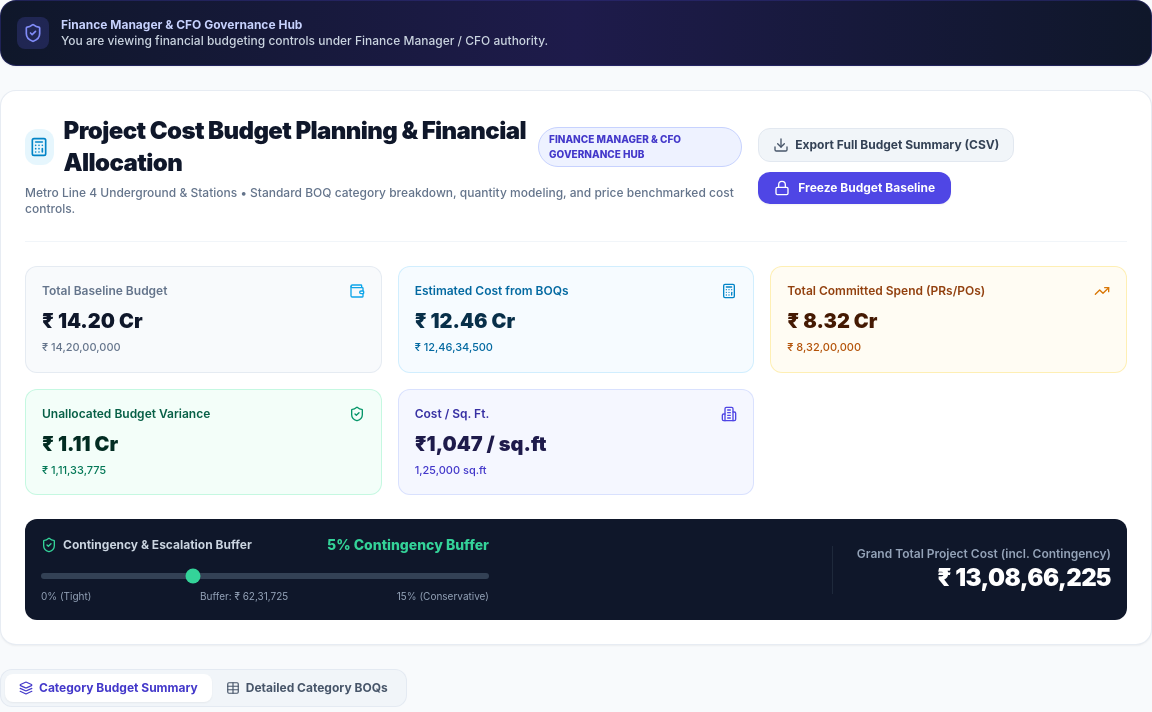
Test case: BudgetPlanningModule Component & Budget System › switches between Category Summary and Detailed BOQ view modes
The width and height of the screenshot is (1152, 712).
// Click 'Detailed Category BOQs' button in segmented control
Click the button "Detailed Category BOQs" at coordinates (307, 688), box [212, 674, 402, 702]
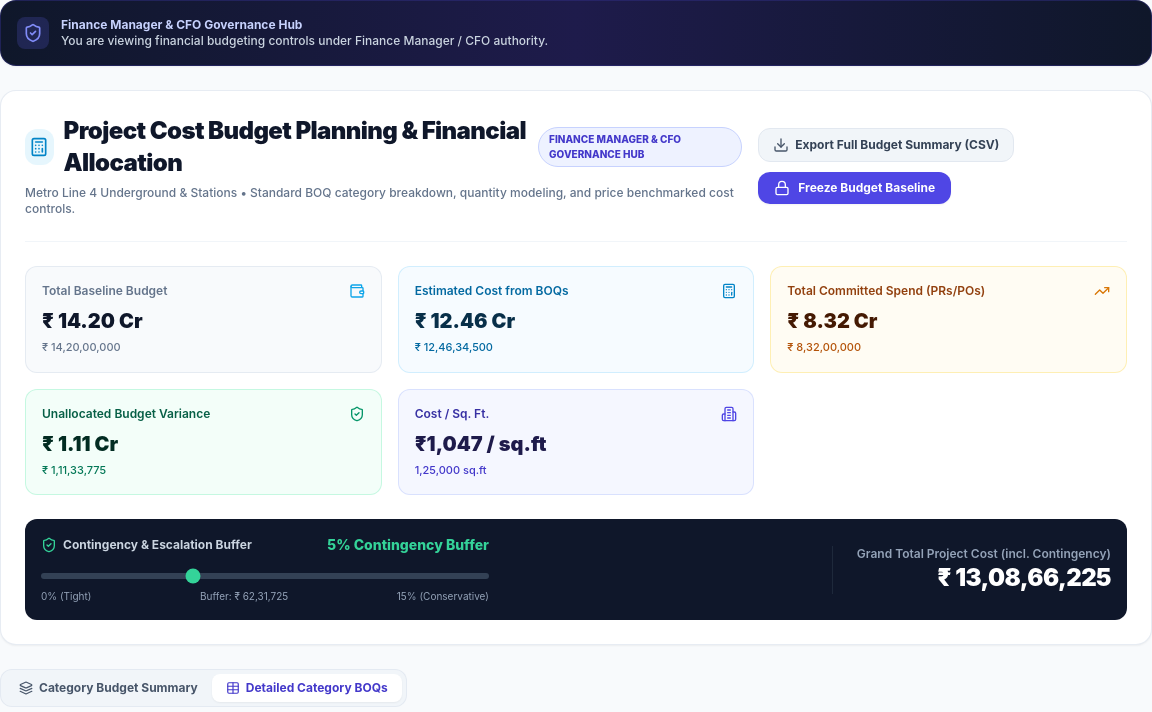
// Switch back to summary
Click the button "Category Budget Summary" at coordinates (108, 688), box [5, 674, 212, 702]
(page scrolled)
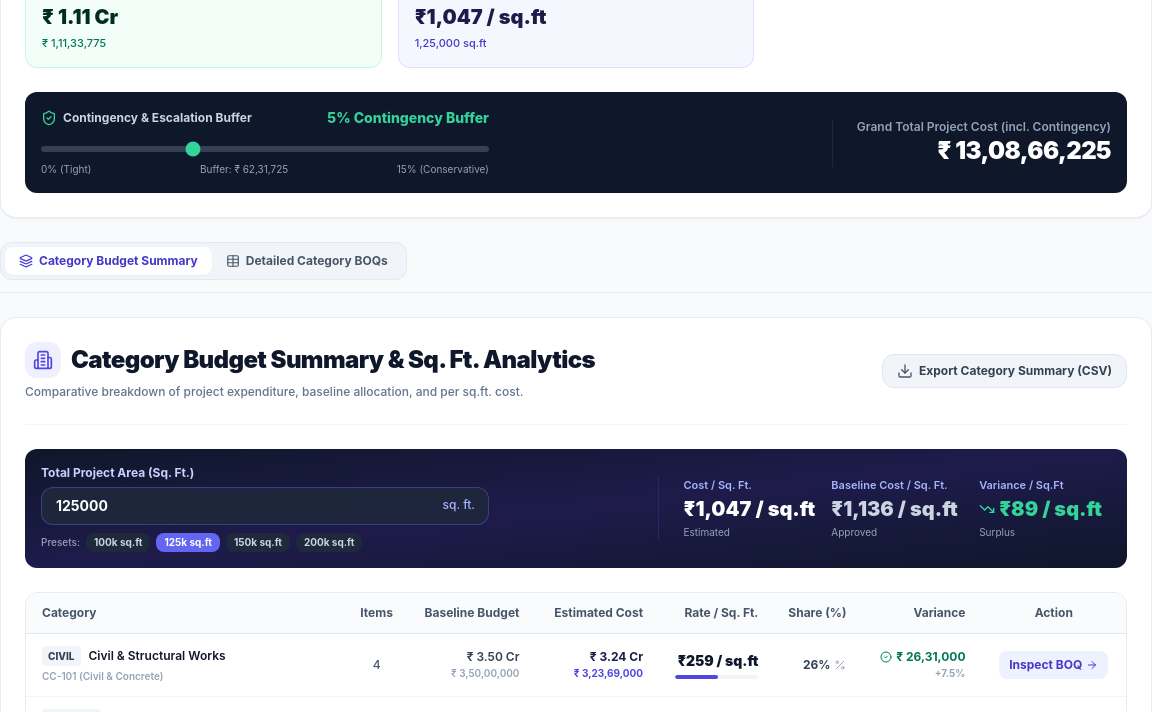
Expected: the heading "Category Budget Summary & Sq. Ft. Analytics" is shown, [71, 344, 595, 376]
